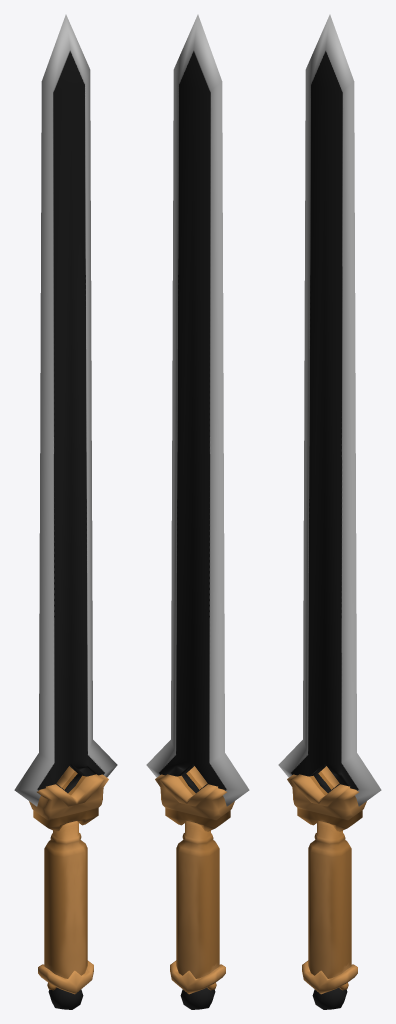
The model's file is sword.fbx.
3 renders of one model, left to right at view 1: azimuth 30°, elevation 25°; view 2: azimuth 150°, elevation 25°; view 3: azimuth 330°, elevation 25°, orthographic.
Visible parts, largest first — view 1: sword; view 2: sword; view 3: sword.
Boxes of the visible parts, x1,y1,x2,y2 form: sword: [14, 14, 117, 1009]; sword: [146, 14, 249, 1009]; sword: [278, 14, 381, 1009].
Size of the model in its own units: 40.76 by 375 by 17.12.
Materials: 1 (1 with a texture image).
